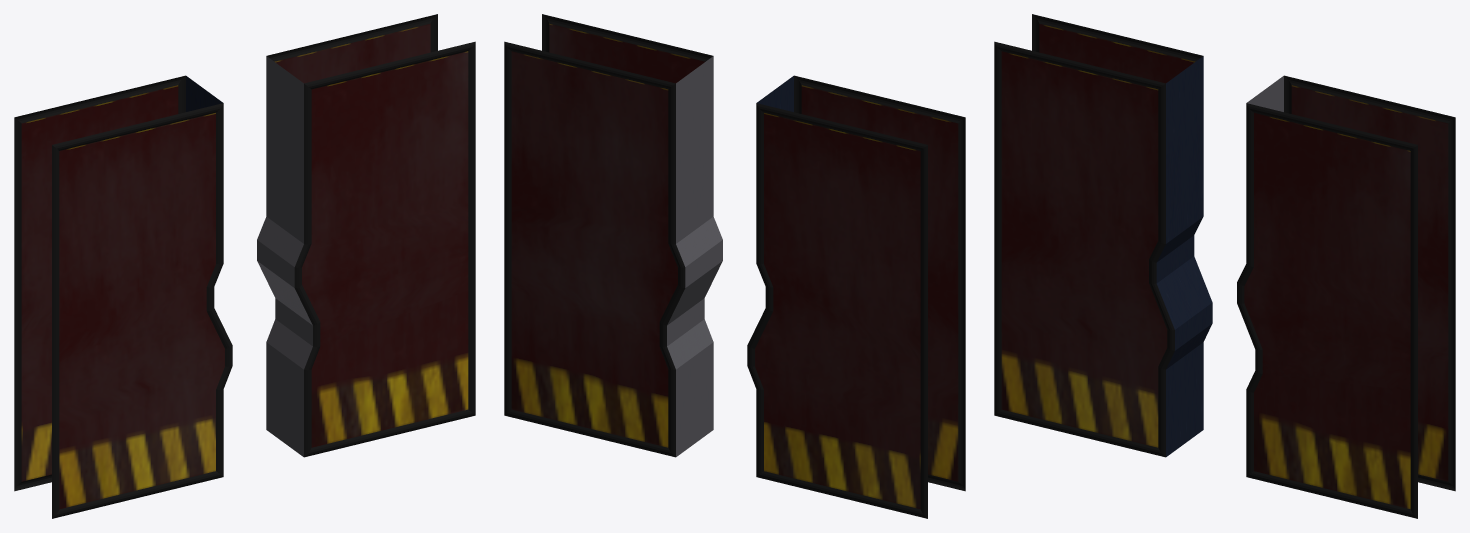
Rendered from door-frame-locked_000003.obj.
3 views of the same model, side by side, from view 1: azimuth 30°, elevation 25°; view 2: azimuth 150°, elevation 25°; view 3: azimuth 330°, elevation 25° (orthographic).
Parts seen in each view (by area): view 1: Door.Left_Cube.007, Door.Right_Cube.006; view 2: Door.Left_Cube.007, Door.Right_Cube.006; view 3: Door.Left_Cube.007, Door.Right_Cube.006.
Boxes of the visible parts, x1,y1,x2,y2 form: Door.Left_Cube.007: (257, 14, 475, 457); Door.Right_Cube.006: (14, 75, 232, 518); Door.Left_Cube.007: (504, 14, 722, 457); Door.Right_Cube.006: (747, 75, 965, 518); Door.Left_Cube.007: (1237, 75, 1455, 518); Door.Right_Cube.006: (994, 14, 1212, 457).
Size of the model in its own units: 6.23 by 5.26 by 0.9998.
6 materials, 6 textured.
